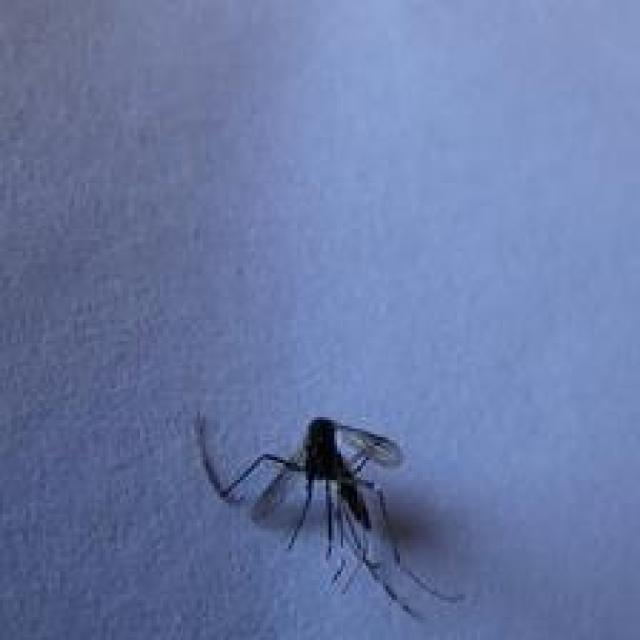Aedes albopictus: (191, 407, 466, 622)
